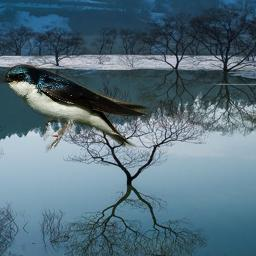Swallow: (1, 63, 154, 154)
